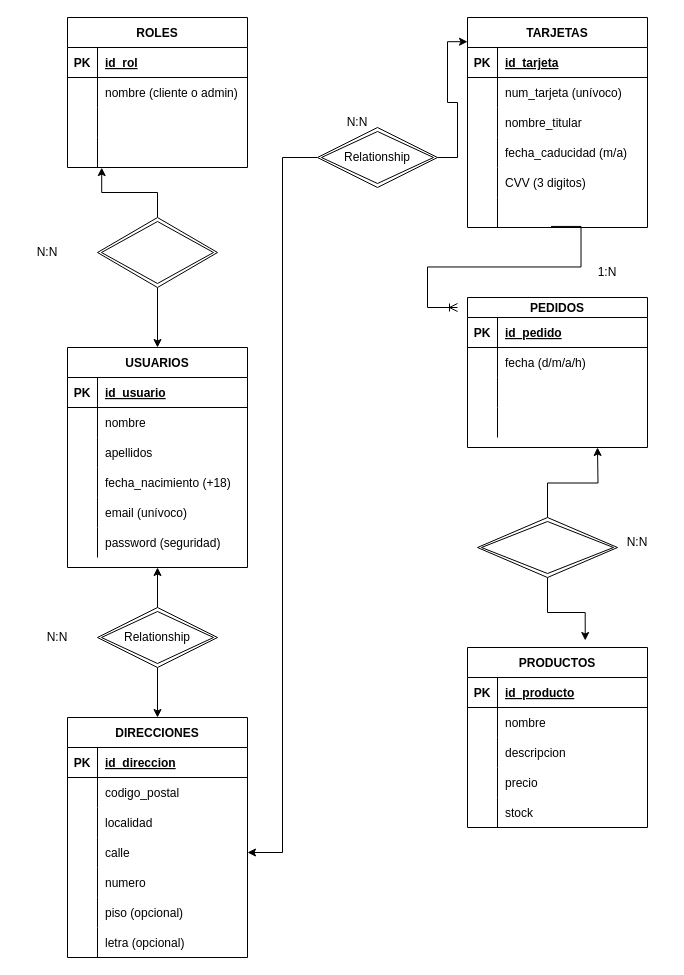
The diagram is 684 pixels wide and 975 high, and some of its shapes have lost their labels. Here are the shapes that lost their labels. From the top down, the centre of each, then its label:
At [157,252]: "Usuarios_Roles".
At [547,547]: "Pedido_Productos".
